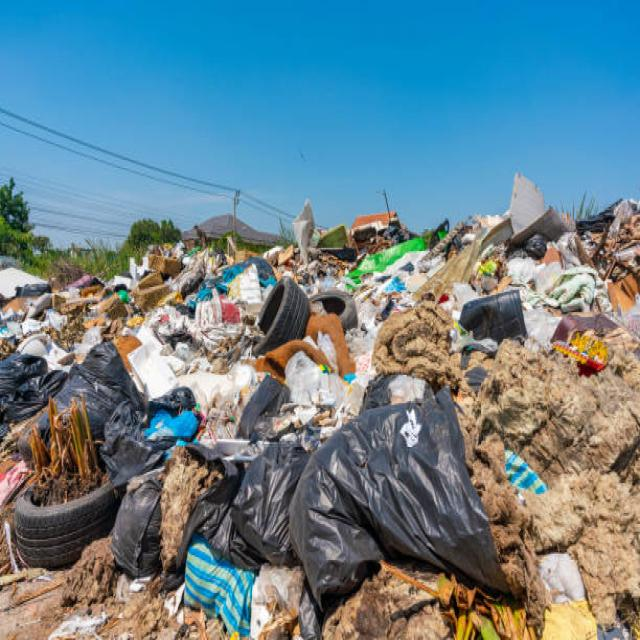cardboard: (134, 256, 180, 309)
plastic: (299, 240, 450, 292)
trash: (120, 386, 519, 638), (2, 342, 74, 408)
